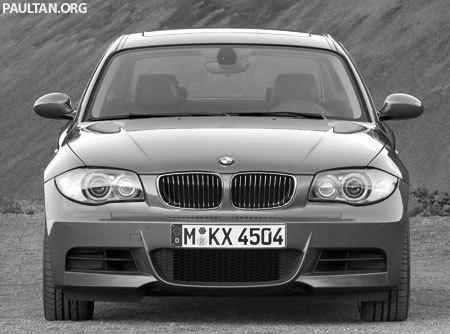car: (22, 16, 434, 332)
